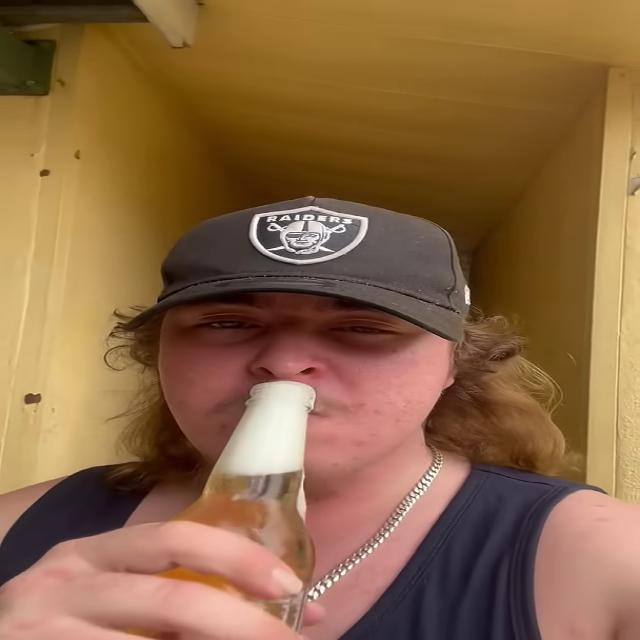Bottle: (111, 386, 314, 639)
Hand: (0, 518, 328, 640)
Mouth: (207, 396, 339, 424)
